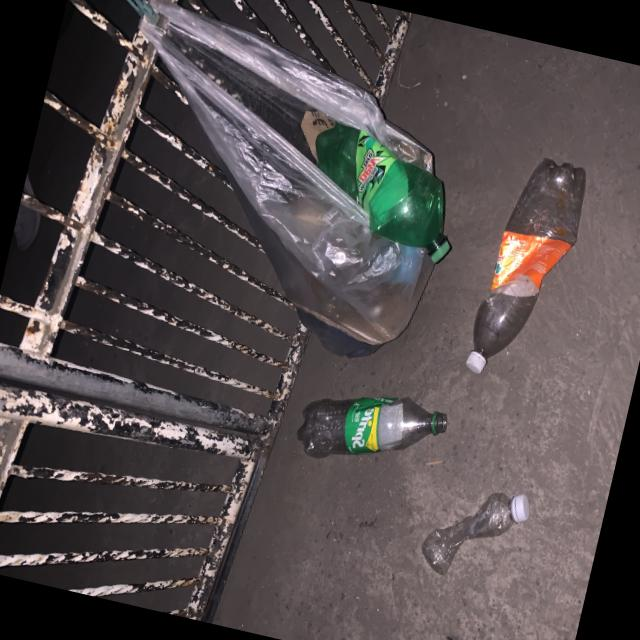Bottle: (465, 158, 584, 373), (296, 397, 446, 458), (420, 492, 529, 575)
